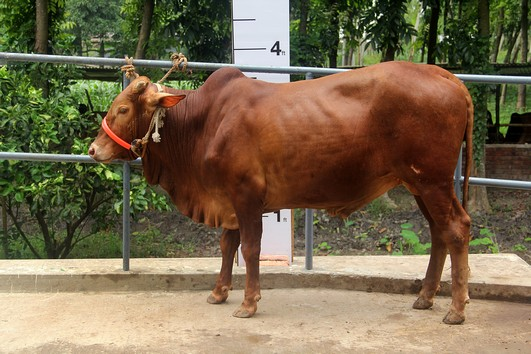cow: (85, 58, 481, 336)
